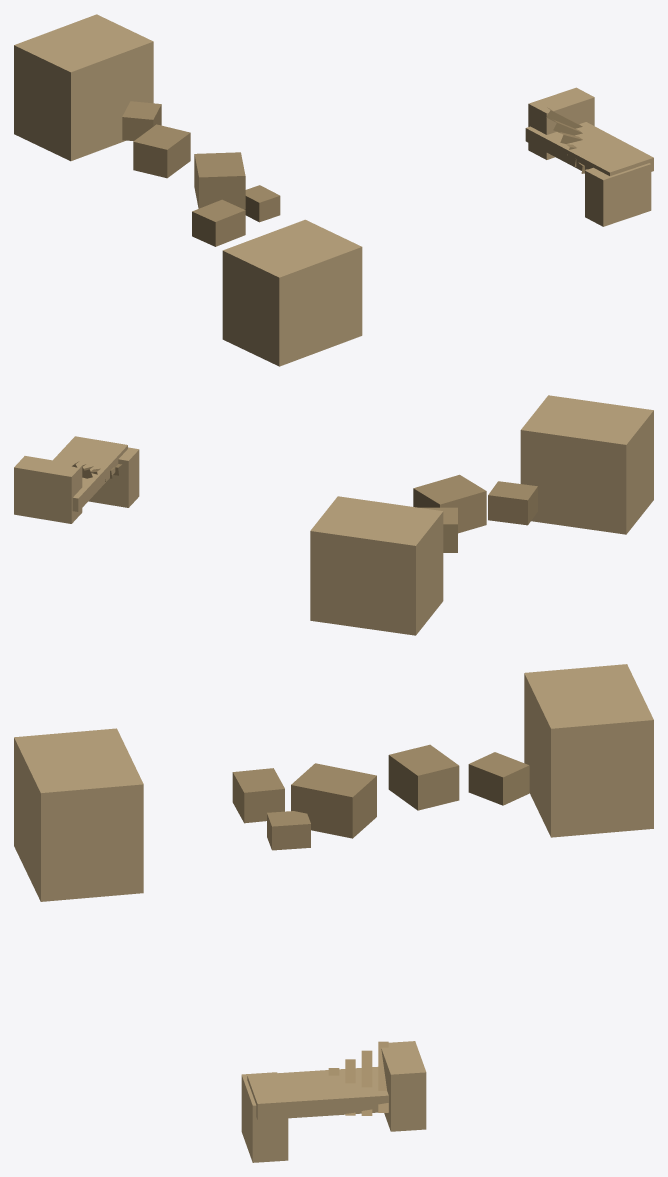
The model's file is babybridge.glb.
The picture shows the model from 3 angles, top to bottom: view 1: azimuth 30°, elevation 25°; view 2: azimuth 150°, elevation 25°; view 3: azimuth 270°, elevation 25°; orthographic projection. The views are drawn at different scales.
Parts seen in each view (by area): view 1: babybridge_lod0; view 2: babybridge_lod0; view 3: babybridge_lod0.
Boxes of the visible parts, x1=… form: babybridge_lod0: x1=14, y1=14, x2=653, y2=366; babybridge_lod0: x1=14, y1=395, x2=653, y2=635; babybridge_lod0: x1=14, y1=664, x2=653, y2=1162.
Size of what is drawn, in the model's own units: 46 by 15.43 by 42.65.
